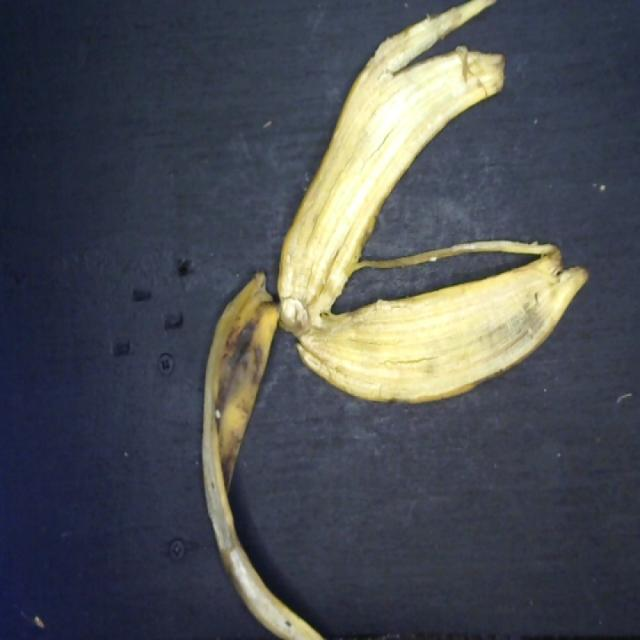biodegradable: (196, 0, 594, 640)
